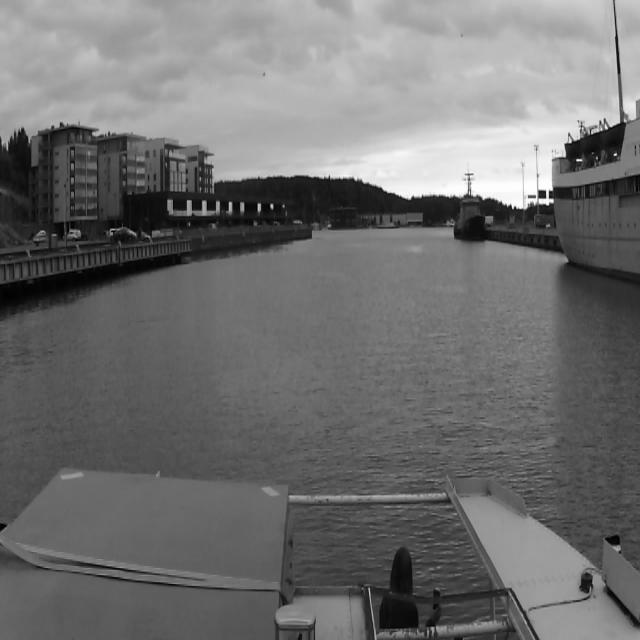ship: (539, 65, 640, 291), (451, 167, 488, 244)
